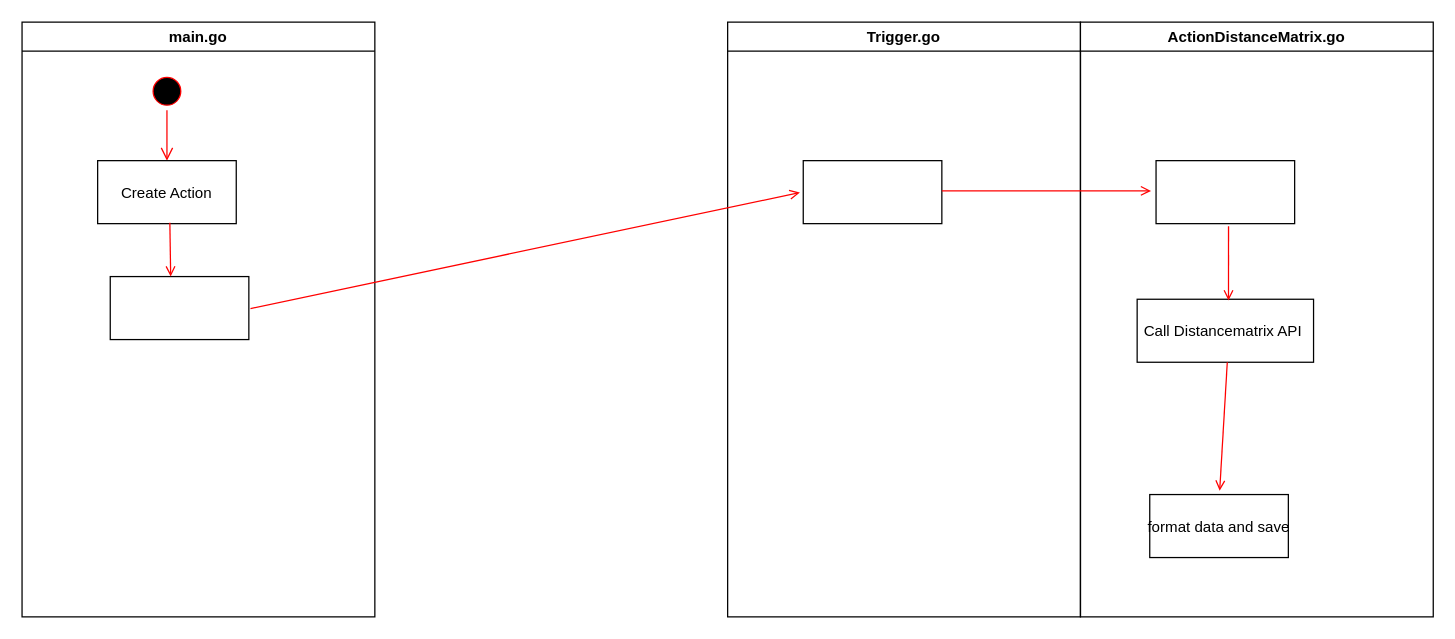
Some shapes in this 1455 by 639 pixel diagram are drawn without their labels. Here are the shapes that lost their labels. From the top down, the centre of each, then its label:
At point 872,191: "Time Trigger".
At point 1225,191: "Execute".
At point 179,307: "Start Timer with created action".
